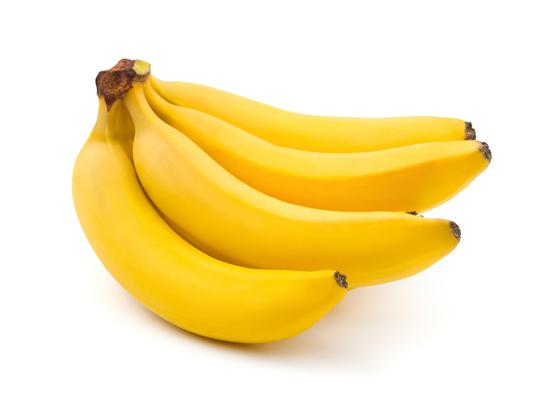banana: (70, 72, 350, 347), (119, 65, 462, 274)
